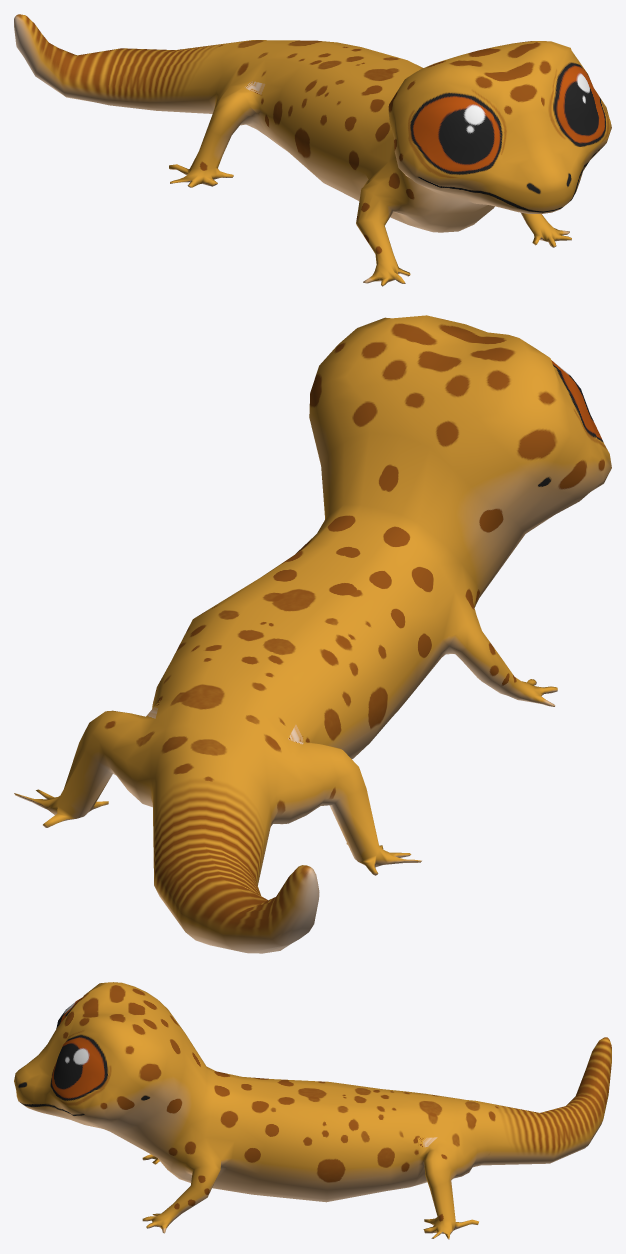
File: Gecko_texture.fbx
3 renders of one model, top to bottom at view 1: azimuth 30°, elevation 25°; view 2: azimuth 150°, elevation 25°; view 3: azimuth 270°, elevation 25°, orthographic. The views are drawn at different scales.
Parts seen in each view (by area): view 1: Retopo_output; view 2: Retopo_output; view 3: Retopo_output.
Boxes of the visible parts, x1,y1,x2,y2 form: Retopo_output: (14, 14, 611, 286); Retopo_output: (14, 315, 611, 953); Retopo_output: (14, 982, 611, 1239).
Size of the model in its own units: 382 by 265 by 750.
